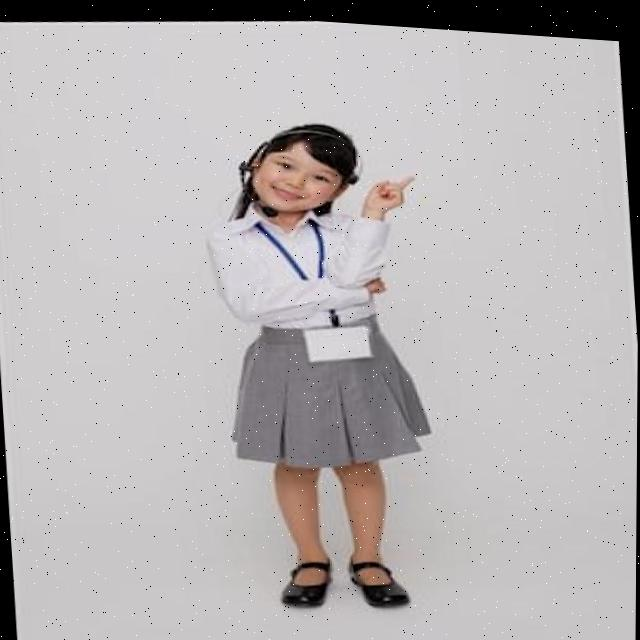id_card: (253, 205, 375, 370)
